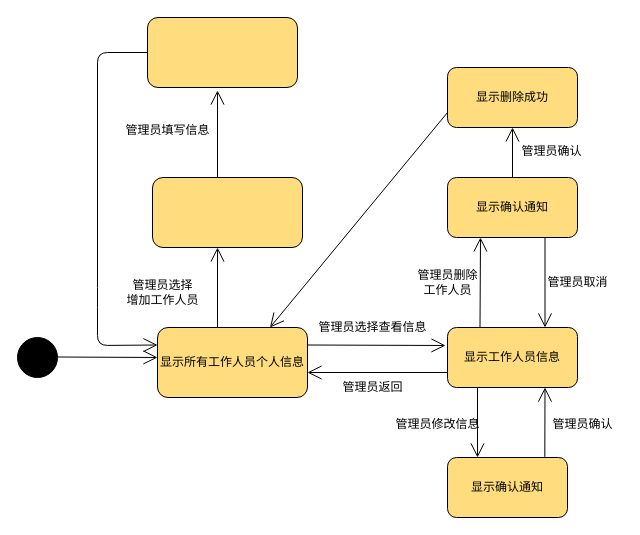
Image size: 640x535. Some labels were removed from this diagram. The centre of each missing label's shape, as x and y in pixels:
"显示添加成功" goes at (222,52).
"显示空白模板" goes at (227,212).
